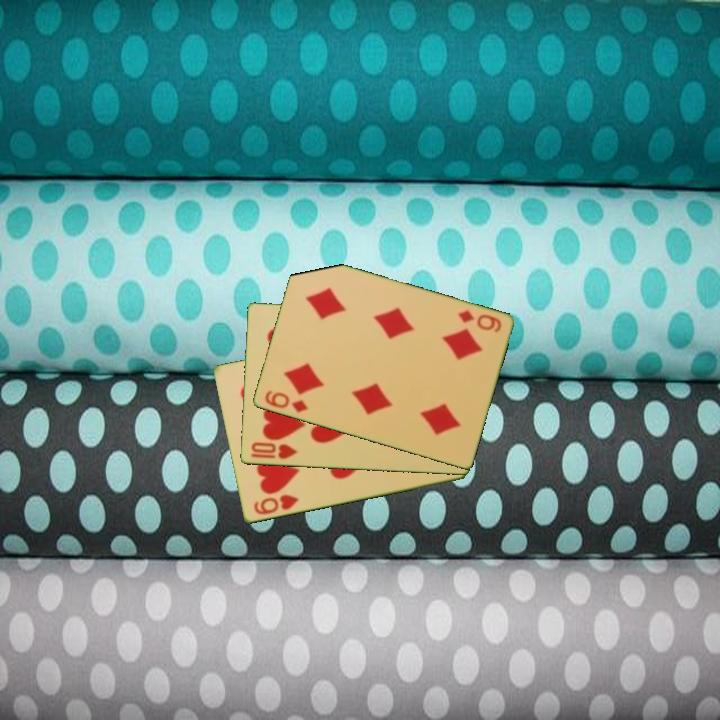10h: (247, 439, 300, 462)
6d: (454, 307, 504, 336), (261, 387, 310, 416)
6h: (250, 491, 301, 518)
